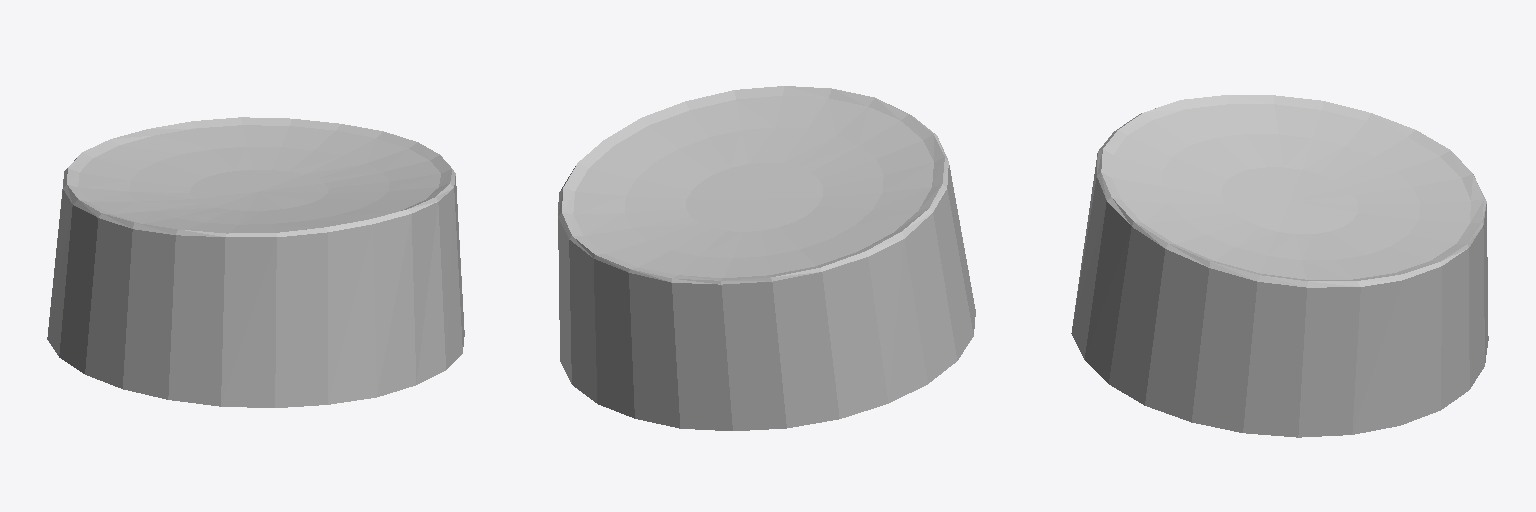
File: button_sys_right.obj
The picture shows the model from 3 angles: view 1: azimuth 30°, elevation 25°; view 2: azimuth 150°, elevation 25°; view 3: azimuth 270°, elevation 25°; orthographic projection.
Visible parts, largest first — view 1: button_system; view 2: button_system; view 3: button_system.
Part boxes in pixels (x1,y1,x2,y2): button_system: (47,117,464,407); button_system: (558,86,975,430); button_system: (1071,95,1488,437).
Size of the model in its own units: 0.0127 by 0.0066 by 0.0127.